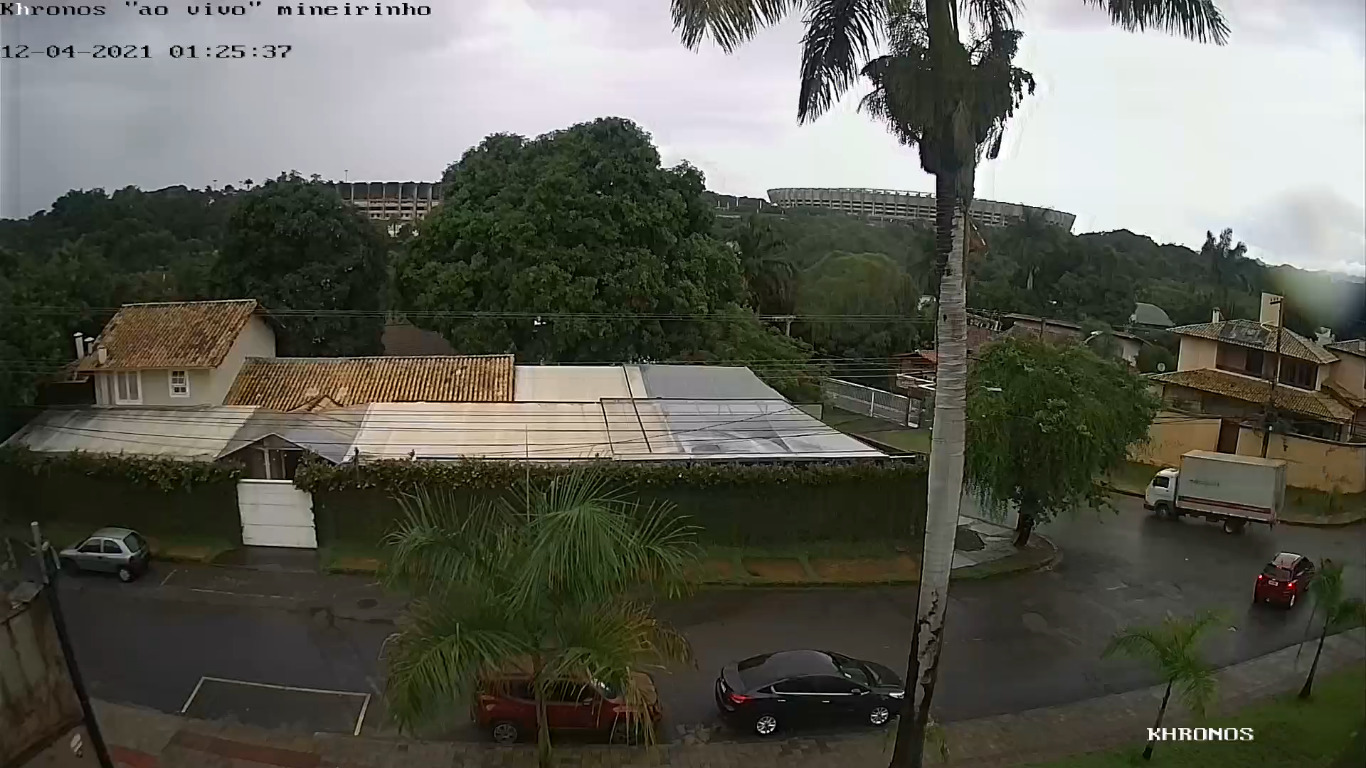car: (467, 645, 662, 748), (714, 647, 913, 738), (57, 526, 151, 583), (1250, 549, 1316, 610)
